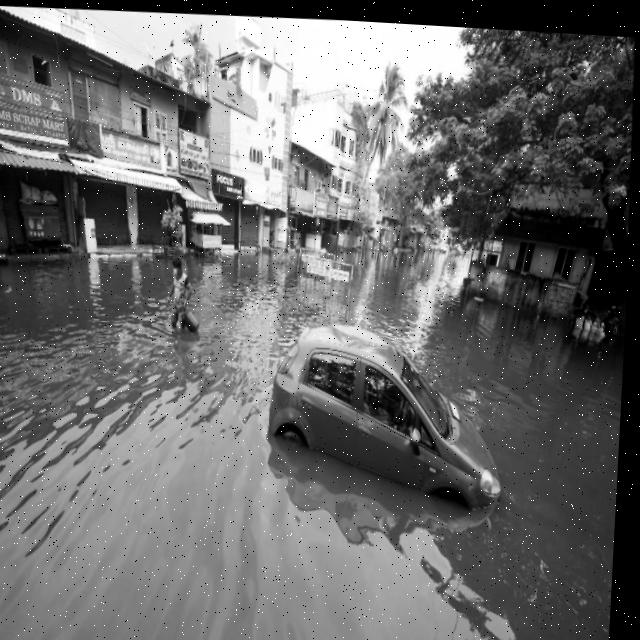civilian: (159, 248, 201, 338)
